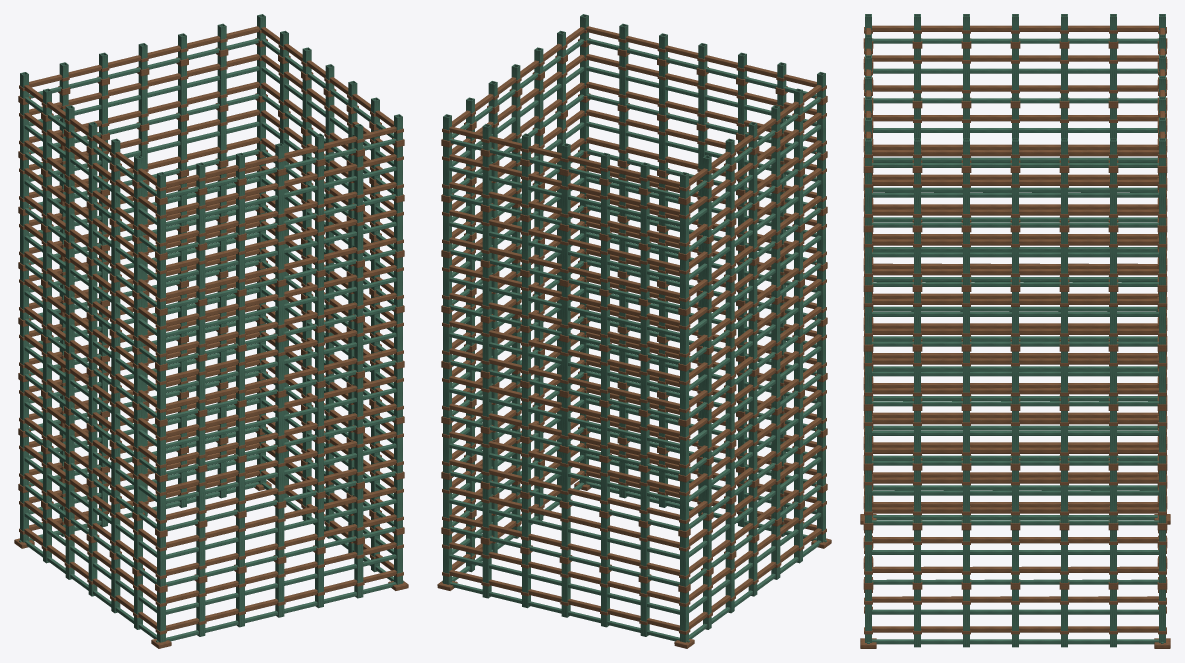
3 renders of one model, left to right at view 1: azimuth 30°, elevation 25°; view 2: azimuth 150°, elevation 25°; view 3: azimuth 270°, elevation 25°, orthographic. The views are drawn at different scales.
Size of the model in its own units: 2.85 by 5.13 by 2.85.
Materials: 2 (2 with a texture image).
